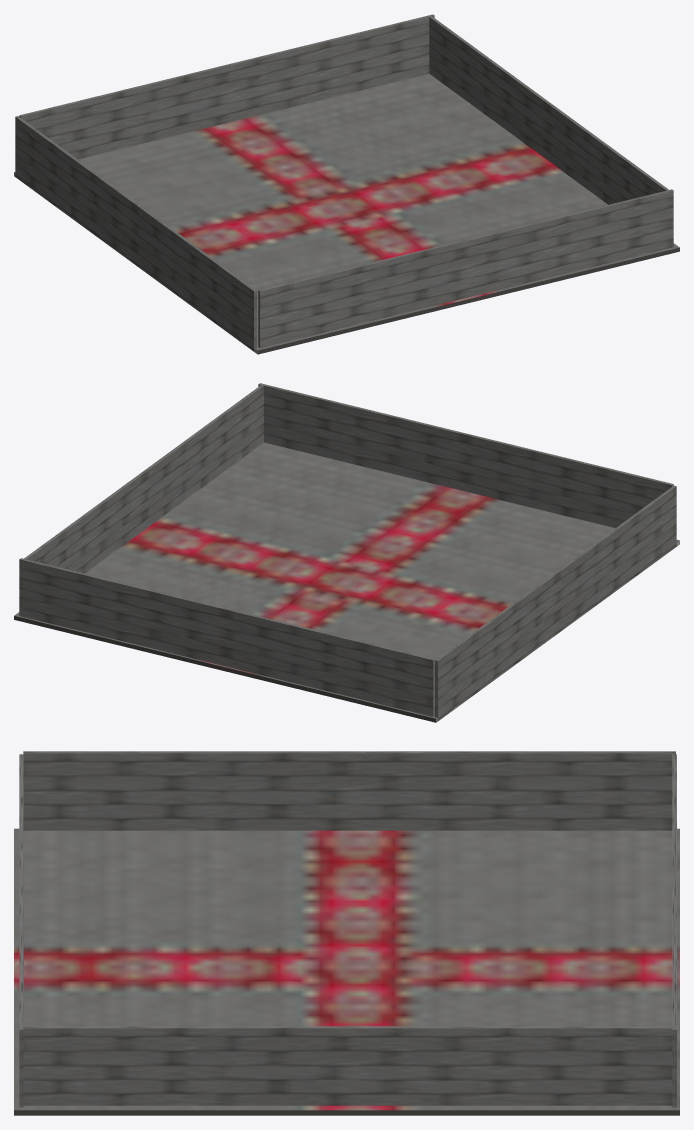
File: completefloorroom.fbx
The picture shows the model from 3 angles, top to bottom: view 1: azimuth 30°, elevation 25°; view 2: azimuth 150°, elevation 25°; view 3: azimuth 270°, elevation 25°; orthographic projection. The views are drawn at different scales.
Parts seen in each view (by area): view 1: pCube6; view 2: pCube6; view 3: pCube6.
Part boxes in pixels (left/top/right/bottom): pCube6: left=14, top=14, right=679, bottom=354; pCube6: left=14, top=383, right=679, bottom=722; pCube6: left=14, top=751, right=679, bottom=1115.
Bounding box in the file's own units: 146 × 20.07 × 146.
